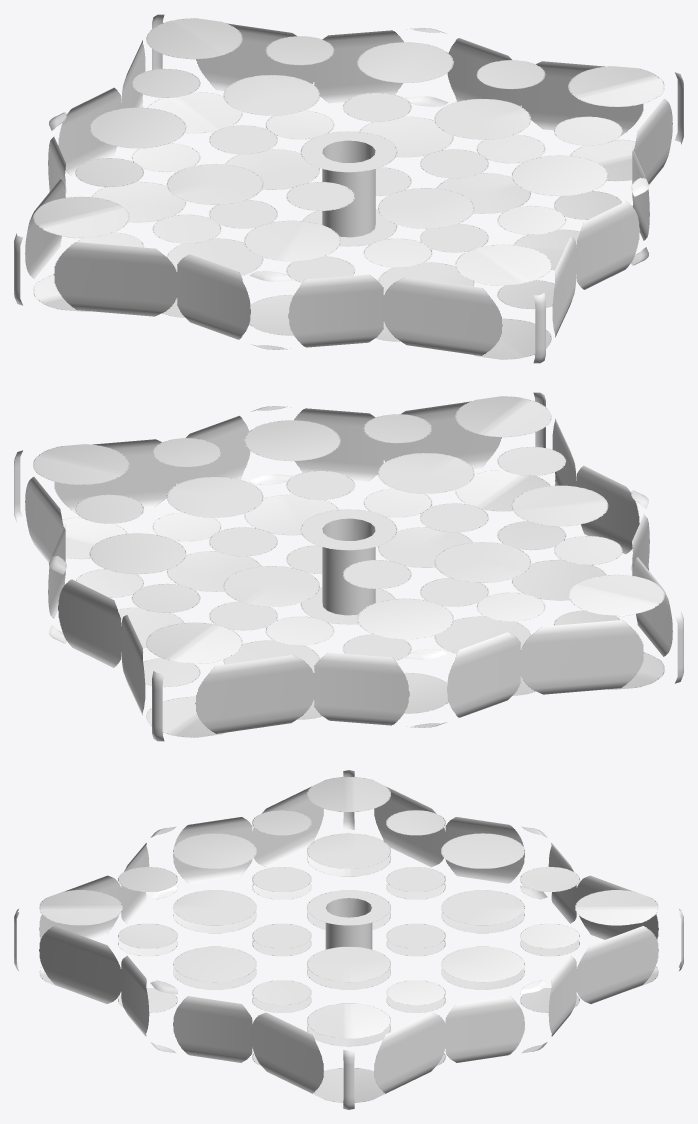
The picture shows the model from 3 angles, top to bottom: view 1: azimuth 30°, elevation 25°; view 2: azimuth 150°, elevation 25°; view 3: azimuth 270°, elevation 25°; orthographic projection. The views are drawn at different scales.
Visible parts, largest first — view 1: Chakra.007; view 2: Chakra.007; view 3: Chakra.007.
Boxes of the visible parts, x1=… form: Chakra.007: x1=14, y1=14, x2=683, y2=363; Chakra.007: x1=14, y1=392, x2=683, y2=741; Chakra.007: x1=14, y1=770, x2=683, y2=1109.
Bounding box in the file's own units: 676 × 71.66 × 676.
